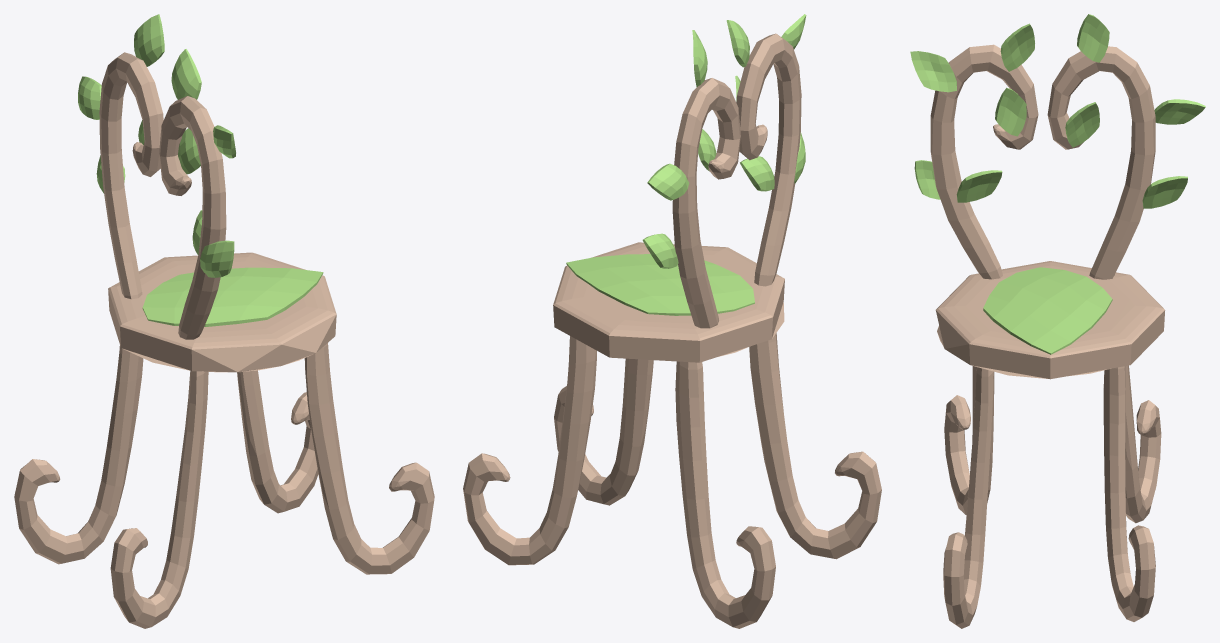
The model's file is stuhl.fbx.
3 views of the same model, side by side, from view 1: azimuth 30°, elevation 25°; view 2: azimuth 150°, elevation 25°; view 3: azimuth 270°, elevation 25° (orthographic). The views are drawn at different scales.
Visible parts, largest first — view 1: Cube.001; view 2: Cube.001; view 3: Cube.001.
Part boxes in pixels (x1,y1,x2,y2): Cube.001: (14, 14, 434, 628); Cube.001: (463, 14, 881, 628); Cube.001: (910, 14, 1205, 628).
Size of the model in its own units: 108 by 179 by 89.27.
